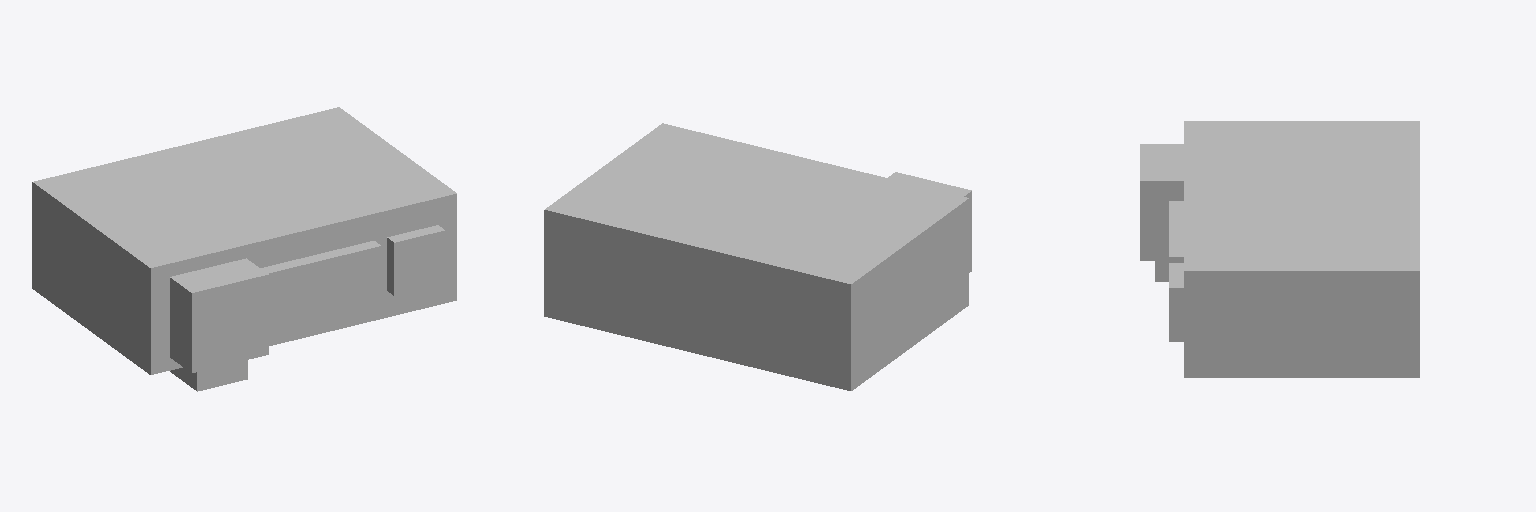
The model's file is radiocb.obj.
The picture shows the model from 3 angles: view 1: azimuth 30°, elevation 25°; view 2: azimuth 150°, elevation 25°; view 3: azimuth 270°, elevation 25°; orthographic projection.
Visible parts, largest first — view 1: cube, thing, screen, knob; view 2: cube, thing; view 3: cube, thing, knob, screen.
Boxes of the visible parts, box(x1,y1,x2,y2) form: cube: box(32, 107, 456, 374); thing: box(170, 258, 268, 391); screen: box(260, 241, 381, 326); knob: box(387, 225, 445, 295); cube: box(544, 123, 968, 390); thing: box(888, 172, 971, 272); cube: box(1184, 121, 1419, 377); thing: box(1140, 144, 1183, 281); knob: box(1169, 263, 1183, 341); screen: box(1169, 201, 1183, 262).
Size of the model in its own units: 0.375 by 0.1406 by 0.2969.